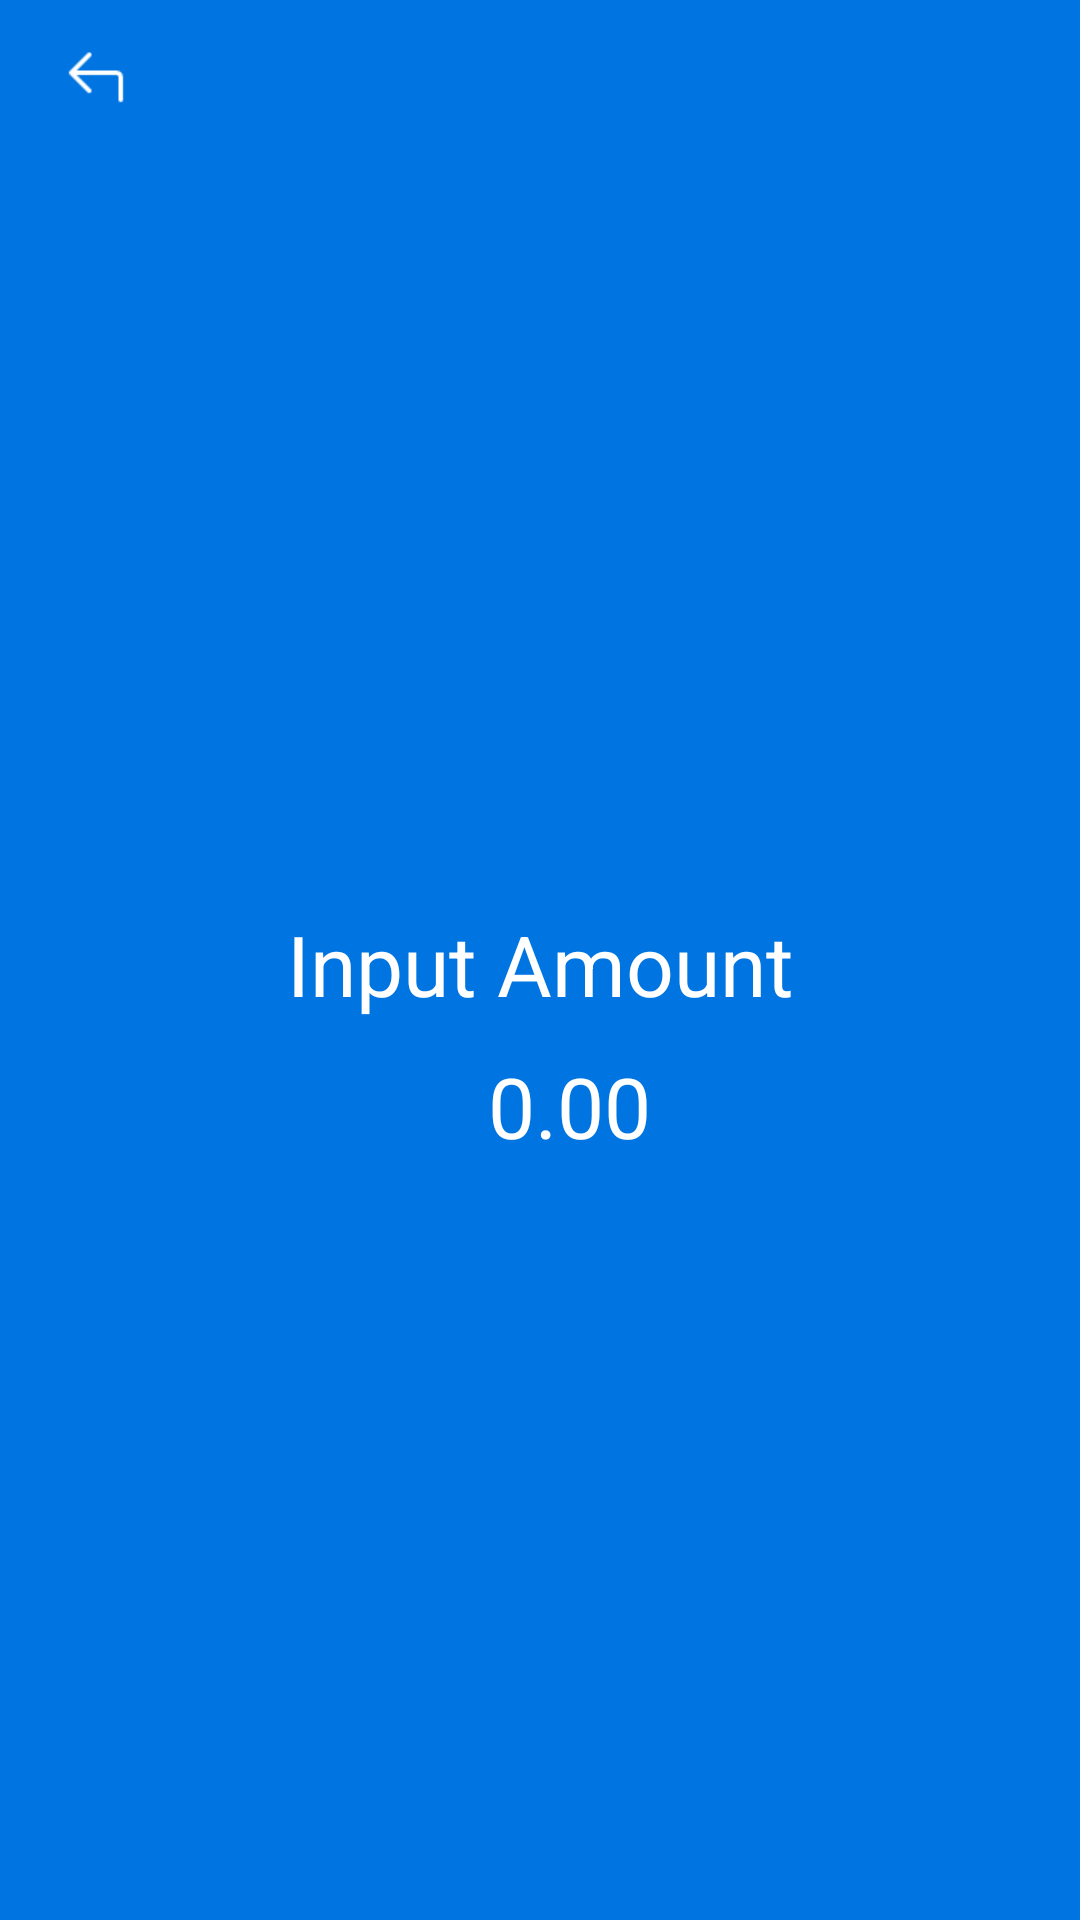

Where icons sit on this 1080px×1920px app screen, as {"x1": x1, "y1": y1, "x2": x2, "y2": y2}:
back: {"x1": 68, "y1": 52, "x2": 124, "y2": 103}
